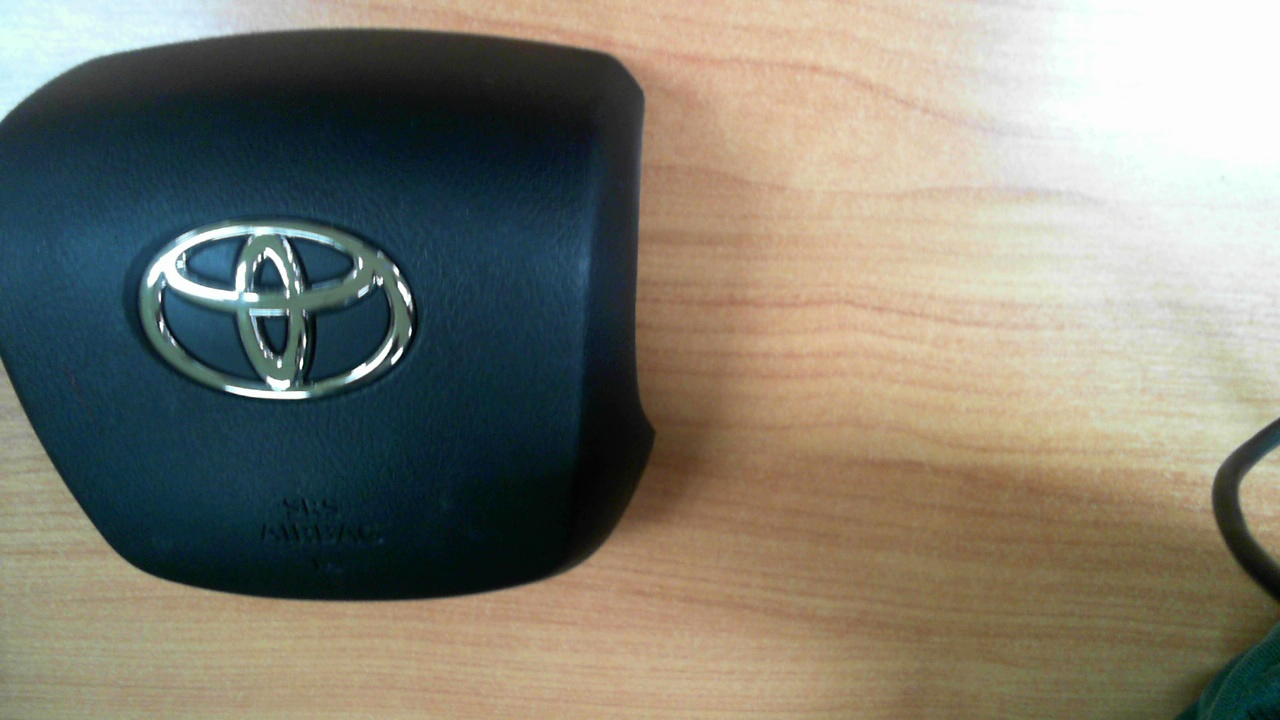Airbag: (0, 28, 656, 603)
Toyota: (139, 220, 414, 400)
